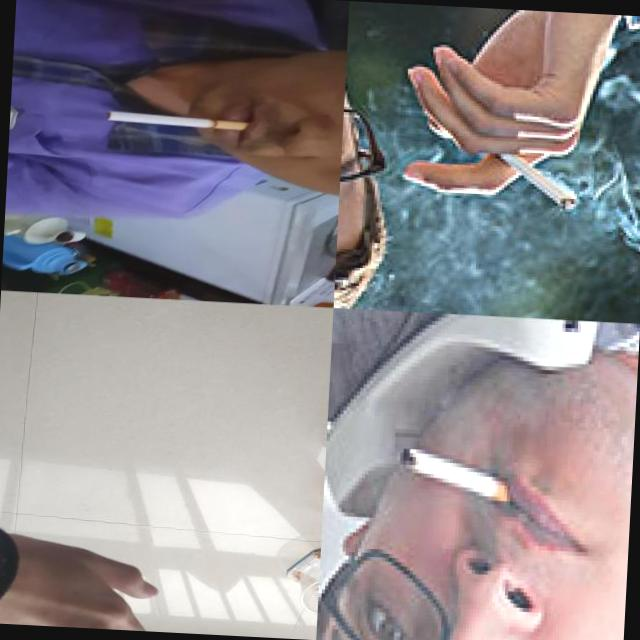cigarette: (397, 446, 525, 508), (495, 154, 585, 215), (104, 110, 250, 130)
